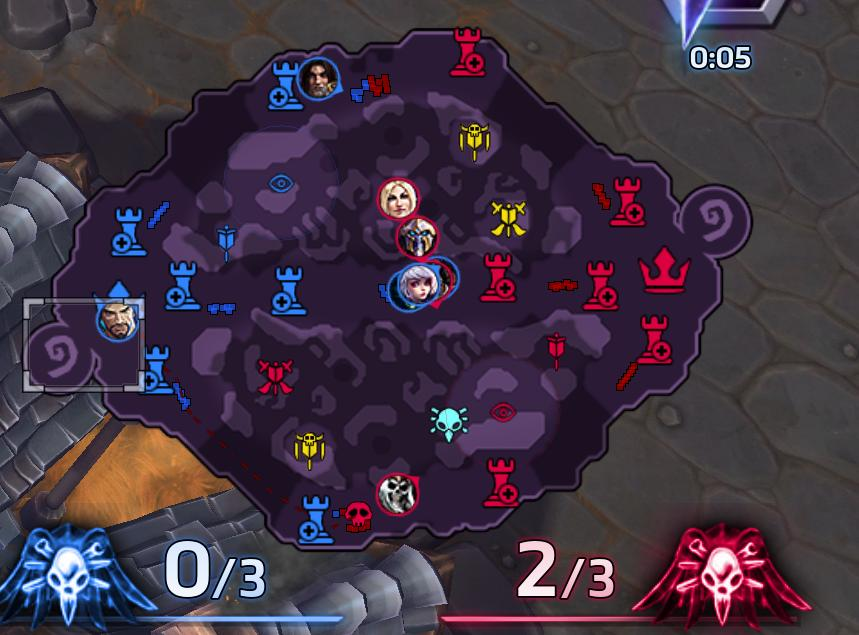blue player: (295, 55, 340, 102), (396, 263, 441, 310), (96, 298, 139, 342)
blue tower: (269, 264, 308, 316), (110, 204, 148, 257), (163, 259, 200, 311)
red nexus: (637, 244, 691, 293)
red player: (395, 216, 439, 260), (376, 176, 420, 220), (376, 472, 419, 516), (343, 501, 372, 531)
red tower: (581, 259, 620, 311), (481, 456, 520, 508), (448, 25, 486, 78), (478, 251, 517, 302)
